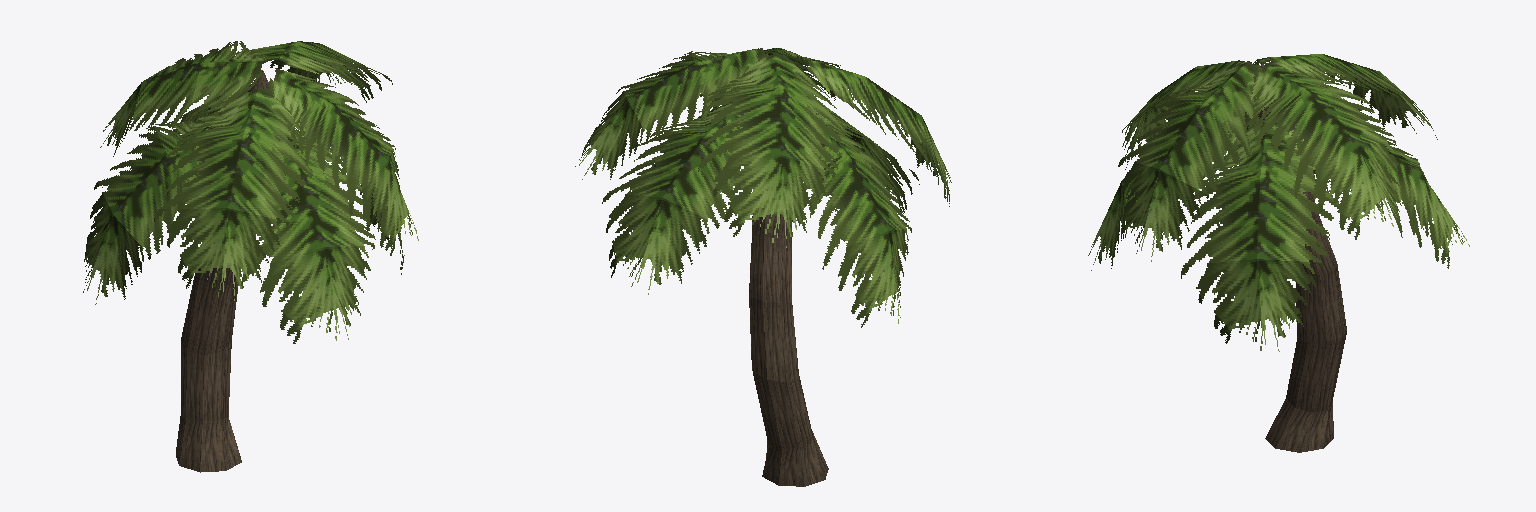
3 views of the same model, side by side, from view 1: azimuth 30°, elevation 25°; view 2: azimuth 150°, elevation 25°; view 3: azimuth 270°, elevation 25° (orthographic).
Bounding box in the file's own units: 8.16 × 9.94 × 9.08.
2 materials, 2 textured.